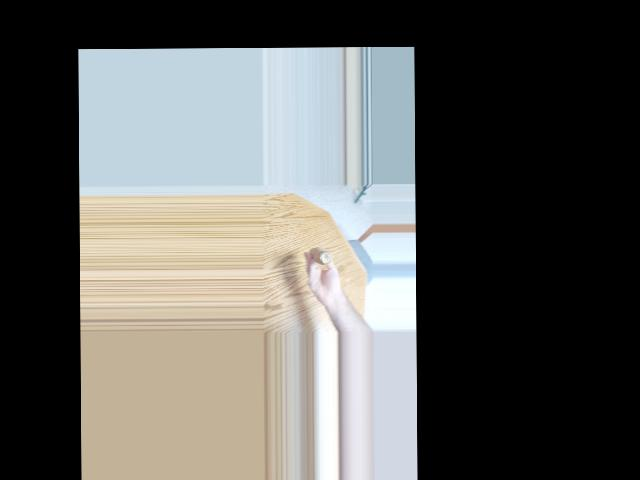sweet_potato: (308, 244, 335, 271)
